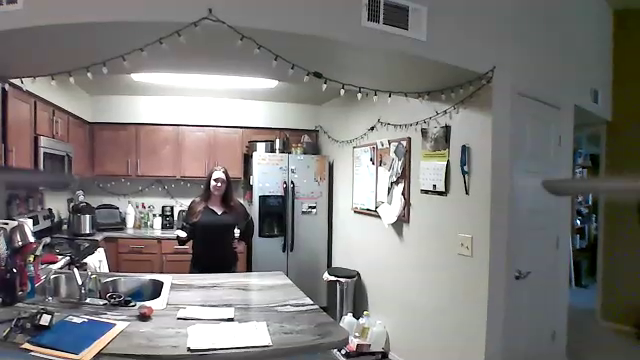land: (169, 227, 193, 244)
